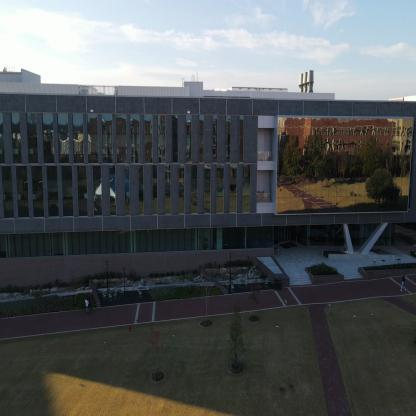Fitts- Woolard: (3, 46, 415, 300)
